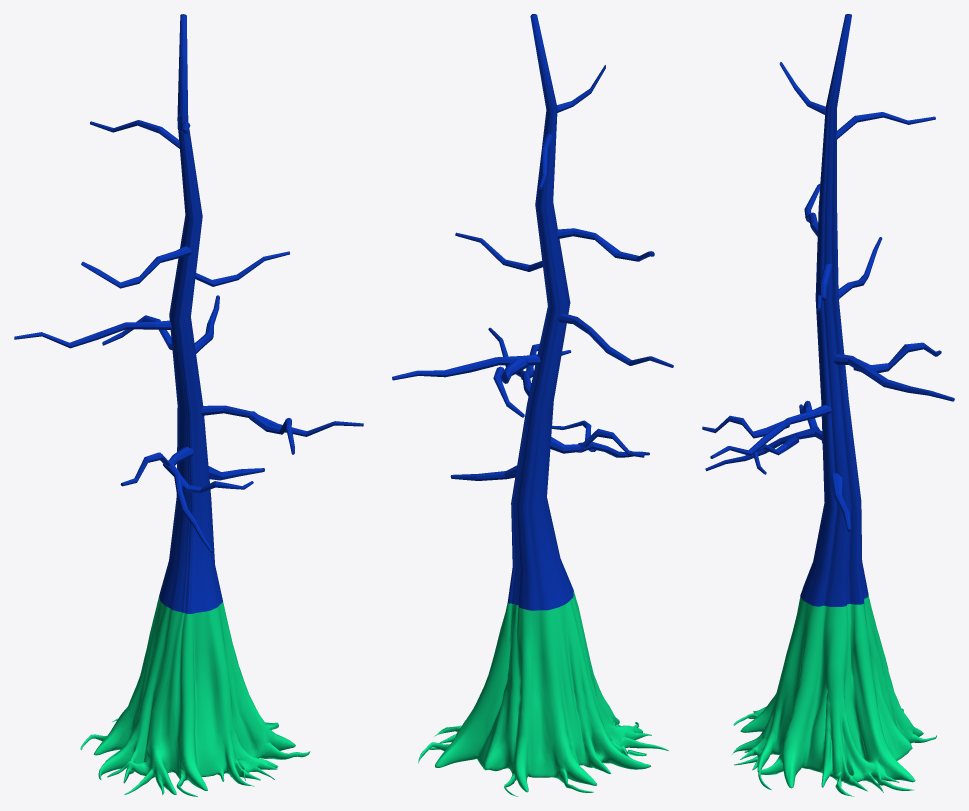
The model's file is SM_E_CypressTree_Corrupted_Small_01.fbx.
3 views of the same model, side by side, from view 1: azimuth 30°, elevation 25°; view 2: azimuth 150°, elevation 25°; view 3: azimuth 270°, elevation 25° (orthographic).
Visible parts, largest first — view 1: SM_E_CypressTree_Corrupted_Small_01; view 2: SM_E_CypressTree_Corrupted_Small_01; view 3: SM_E_CypressTree_Corrupted_Small_01.
Part boxes in pixels (x1,y1,x2,y2): SM_E_CypressTree_Corrupted_Small_01: (14, 14, 363, 796); SM_E_CypressTree_Corrupted_Small_01: (392, 14, 673, 796); SM_E_CypressTree_Corrupted_Small_01: (702, 14, 954, 796).
Size of the model in its own units: 321 by 845 by 263.
